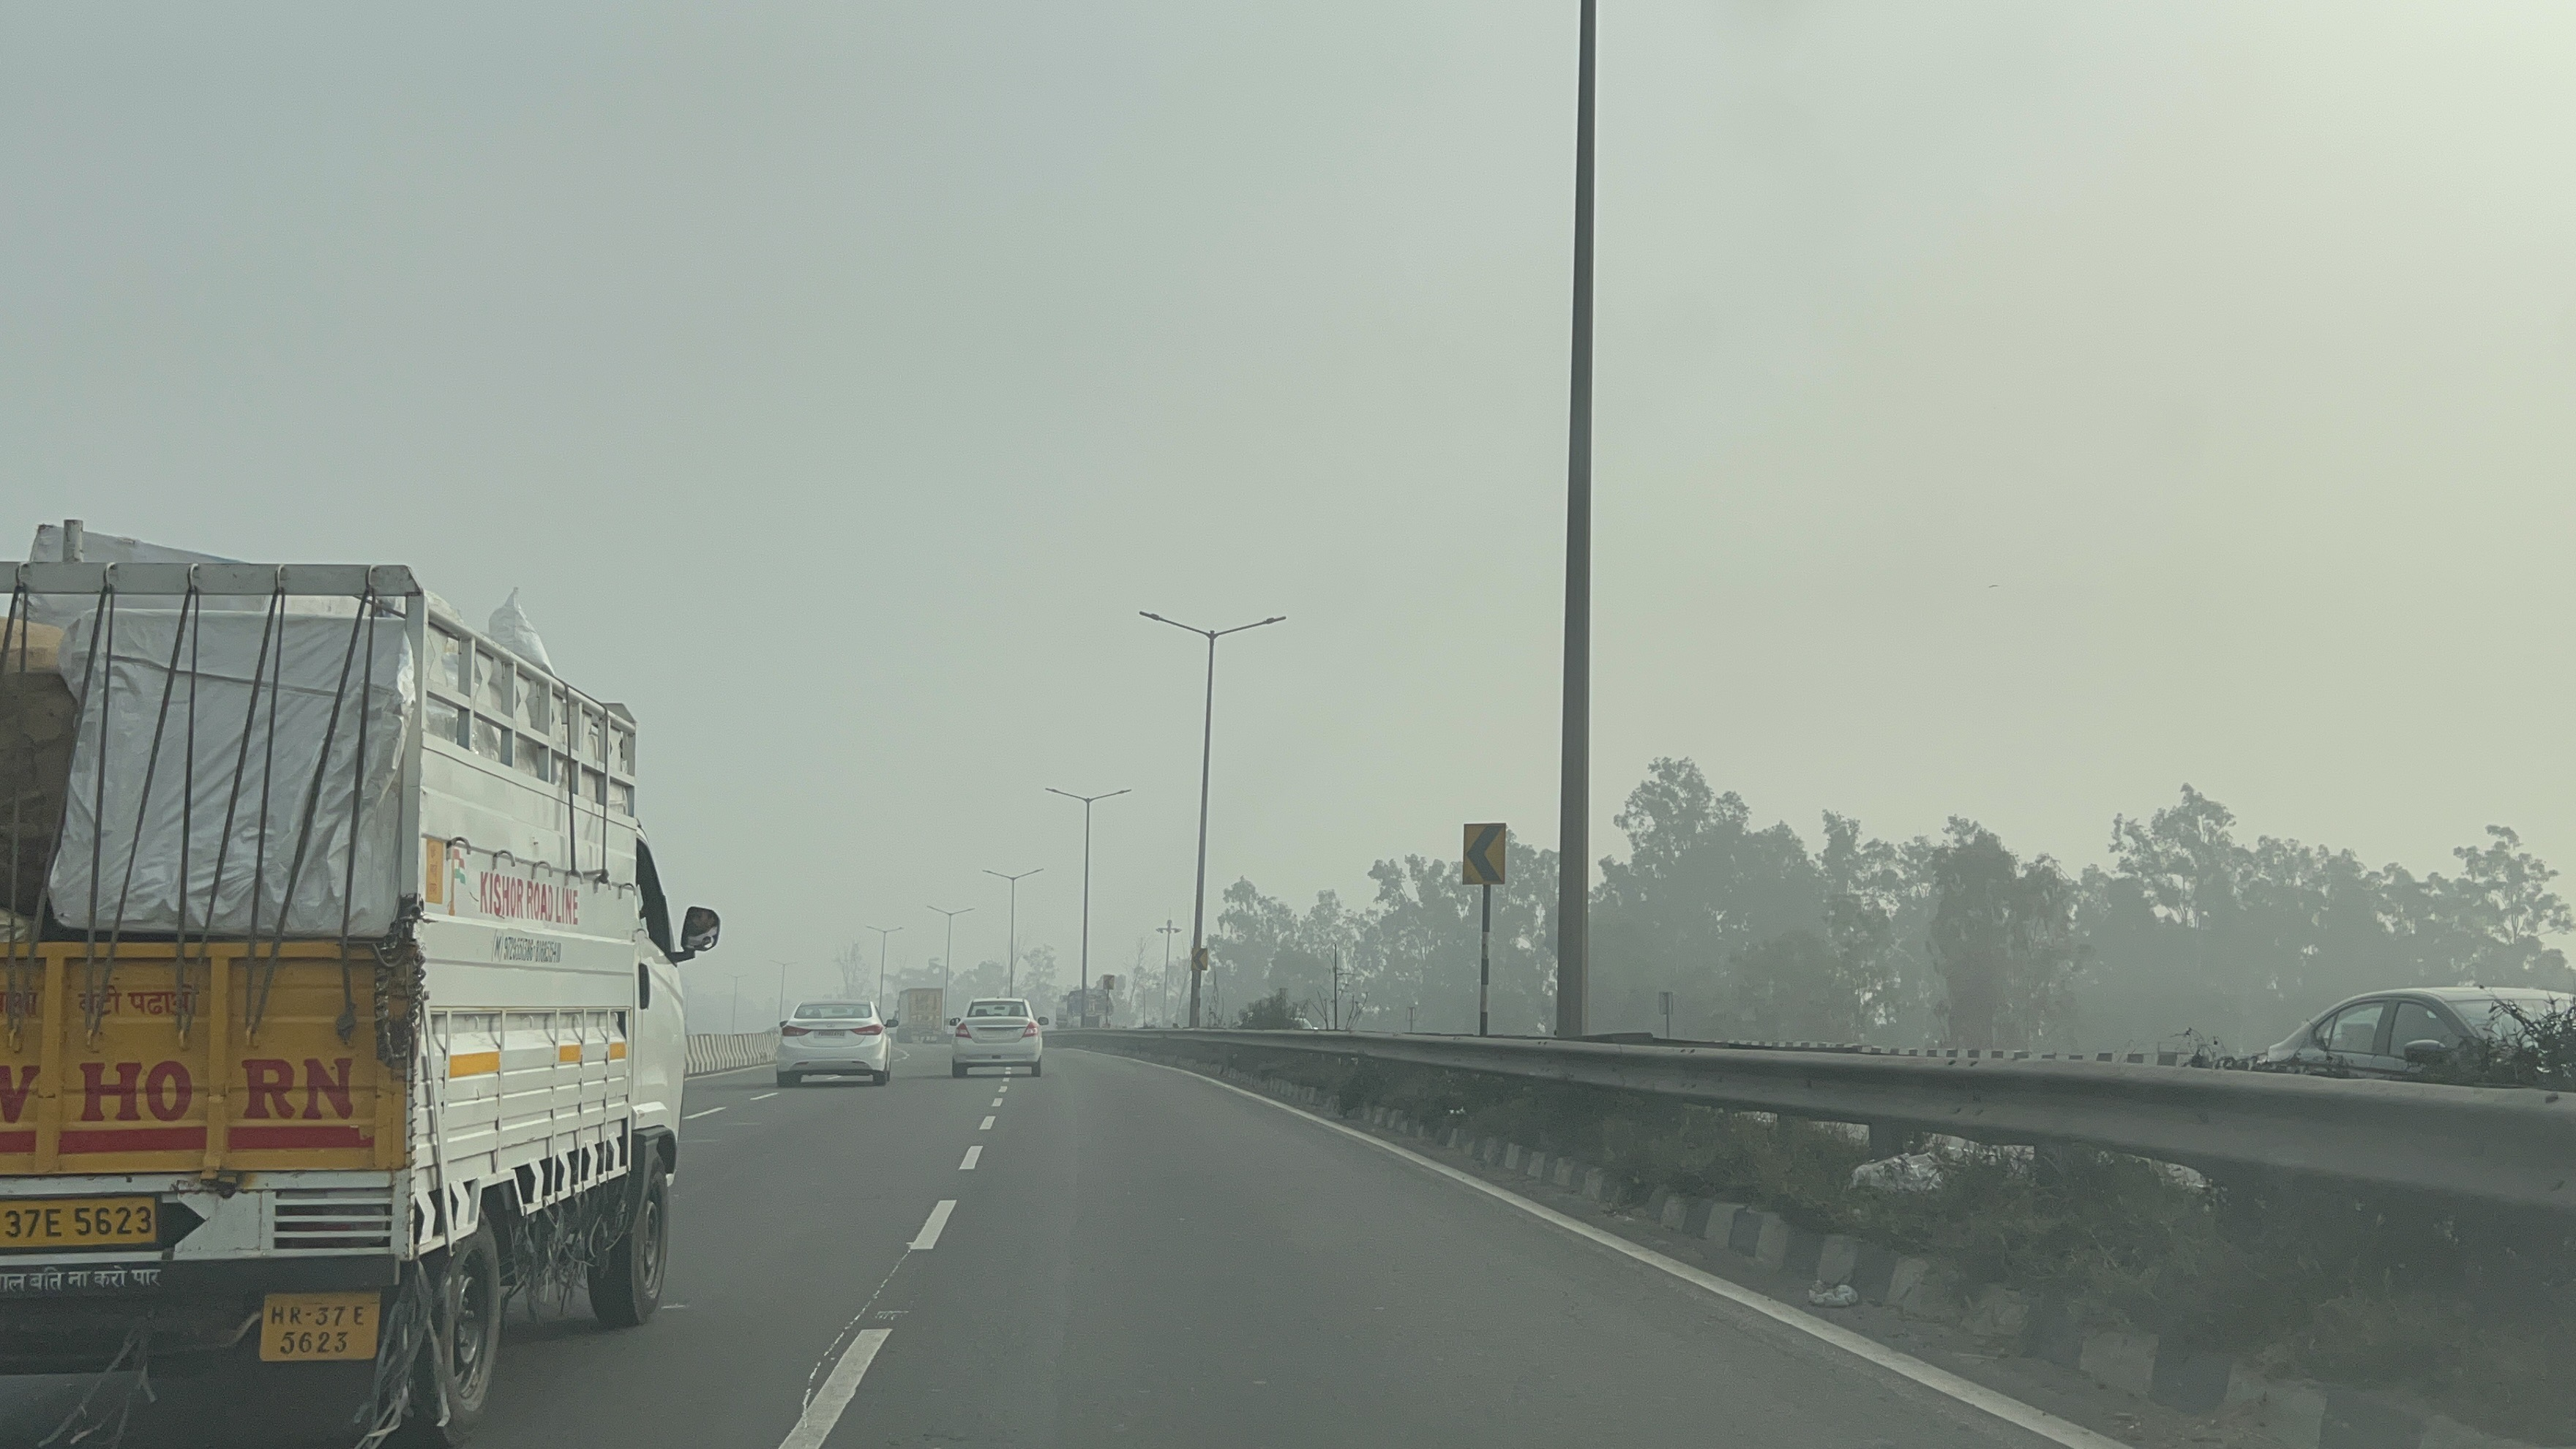General: (1447, 803, 1525, 901)
